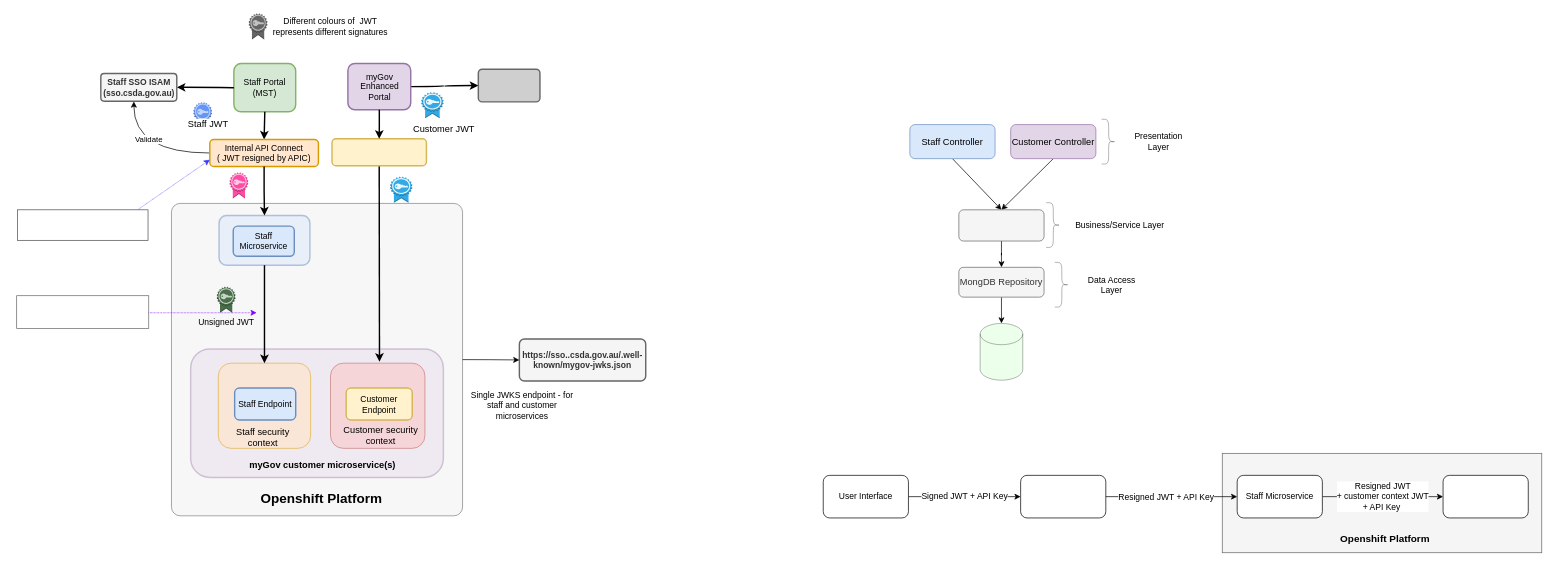
This 1554x565 diagram has some shape labels left out. Here are the shapes that lost their labels. From the top down, the box of each, then its label:
(477, 68, 540, 102): myGov ISAM (my.gov.au)
(331, 138, 427, 166): External API Connect (JWT resigned by APIC)
(17, 209, 148, 240): Internal API connect resigns JWT(s) with its private key.
(218, 214, 310, 266): Staff Microservices
(958, 209, 1044, 241): Service
(16, 295, 149, 328): Call between two internal systems
(1020, 475, 1106, 518): API Connect (Internal)
(1442, 475, 1528, 518): Customer Microservice
